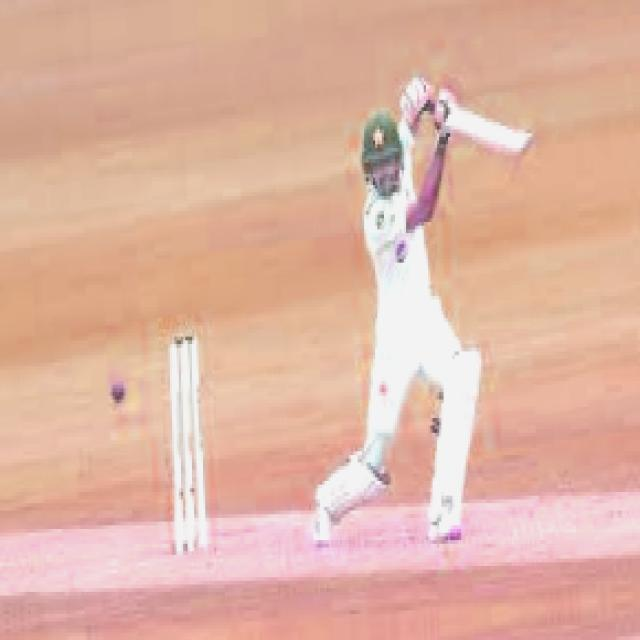toe: (504, 127, 534, 164)
